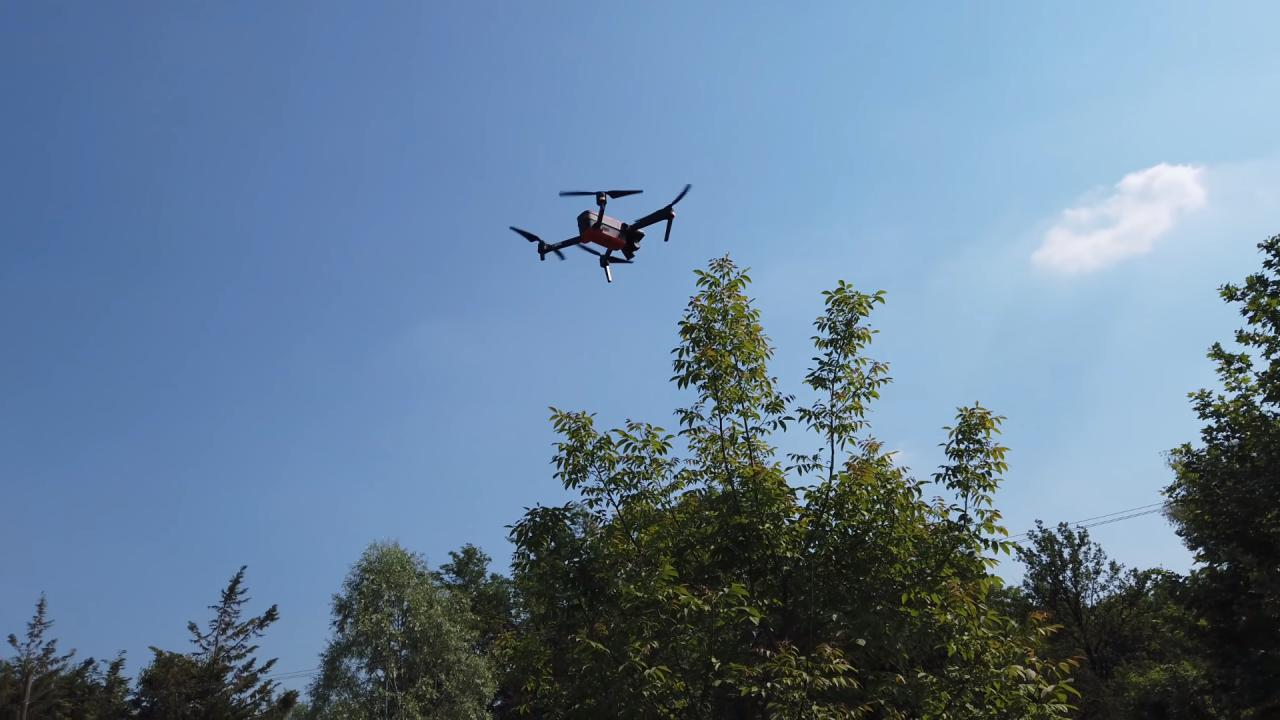Drone: (499, 180, 702, 293)
